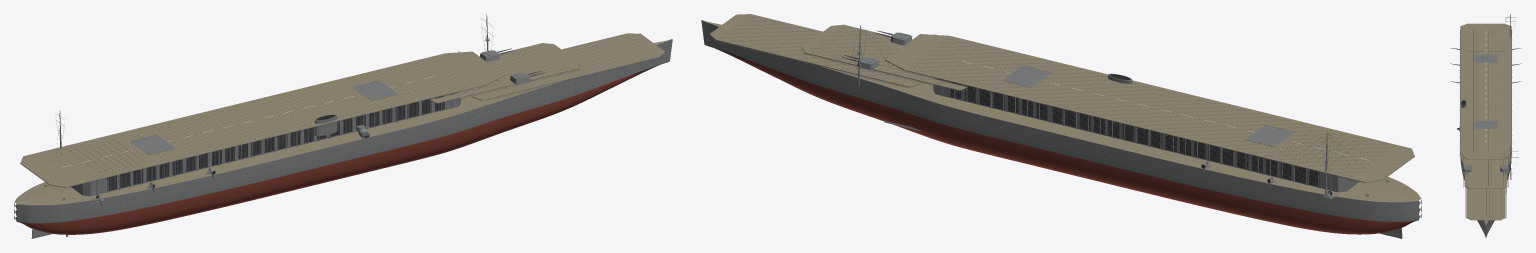
Rendered from akagi_cv.glb.
The picture shows the model from 3 angles, left to right: view 1: azimuth 30°, elevation 25°; view 2: azimuth 150°, elevation 25°; view 3: azimuth 270°, elevation 25°; orthographic projection. The views are drawn at different scales.
Visible parts, largest first — view 1: Akagi (carrier conversion); view 2: Akagi (carrier conversion); view 3: Akagi (carrier conversion).
Part boxes in pixels (box(x1,y1,x2,y2)): Akagi (carrier conversion): box(14, 14, 672, 238); Akagi (carrier conversion): box(701, 14, 1421, 238); Akagi (carrier conversion): box(1450, 14, 1521, 237).
Size of the model in its own units: 261 by 39.26 by 39.99.
Materials: 8 (2 with a texture image).
